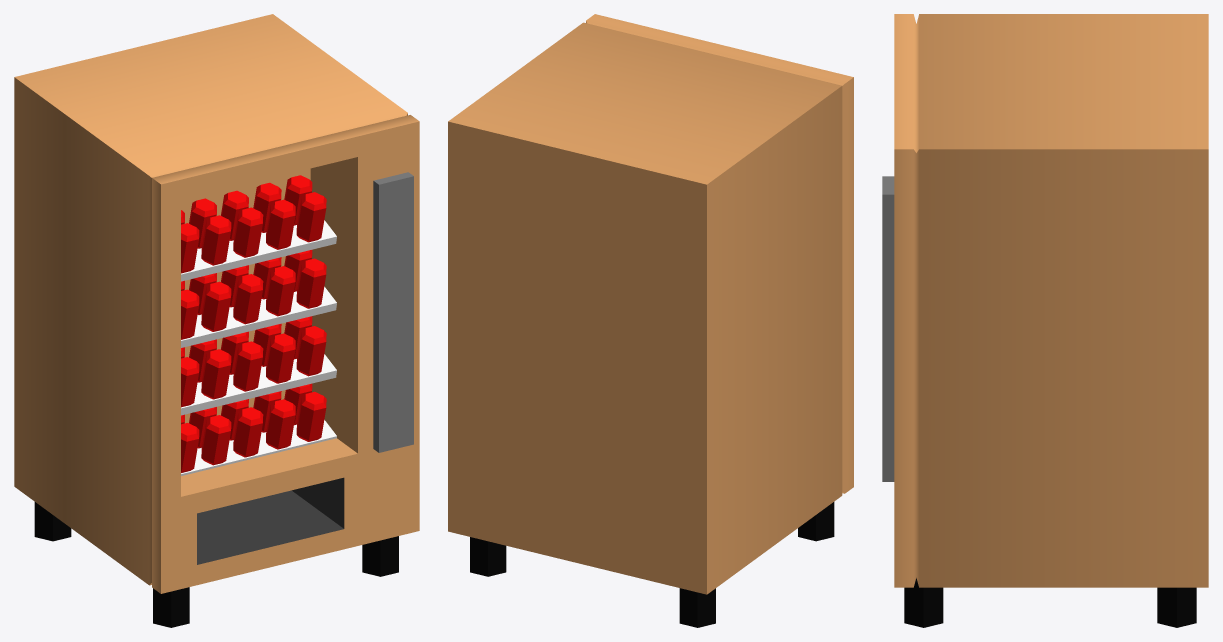
File: vending_machine.fbx
3 renders of one model, left to right at view 1: azimuth 30°, elevation 25°; view 2: azimuth 150°, elevation 25°; view 3: azimuth 270°, elevation 25°, orthographic. The views are drawn at different scales.
Visible parts, largest first — view 1: vending_machine; view 2: vending_machine; view 3: vending_machine.
Boxes of the visible parts, x1,y1,x2,y2 form: vending_machine: (14, 14, 419, 627); vending_machine: (448, 14, 853, 627); vending_machine: (882, 14, 1208, 627).
Size of the model in its own units: 161 by 269 by 165.
1 material, 1 textured.
